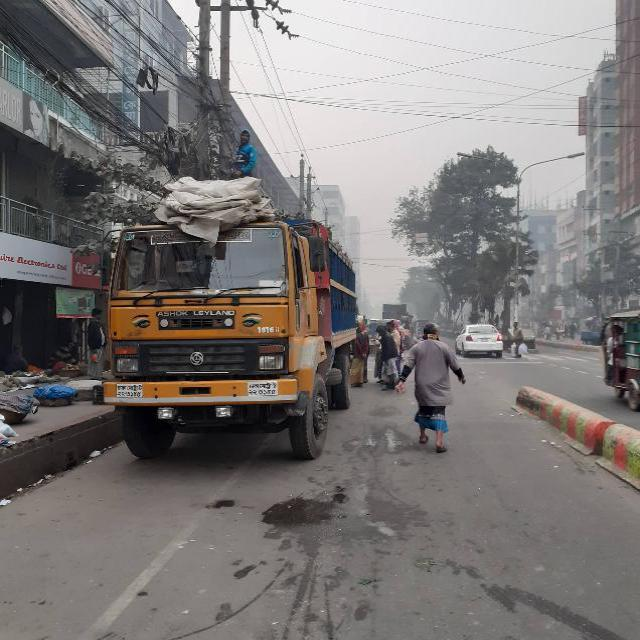auto rickshaw: (596, 310, 638, 410), (412, 319, 426, 337)
car: (454, 324, 501, 356)
rickshaw: (366, 318, 378, 346), (538, 321, 548, 337)
truck: (92, 218, 354, 456)
